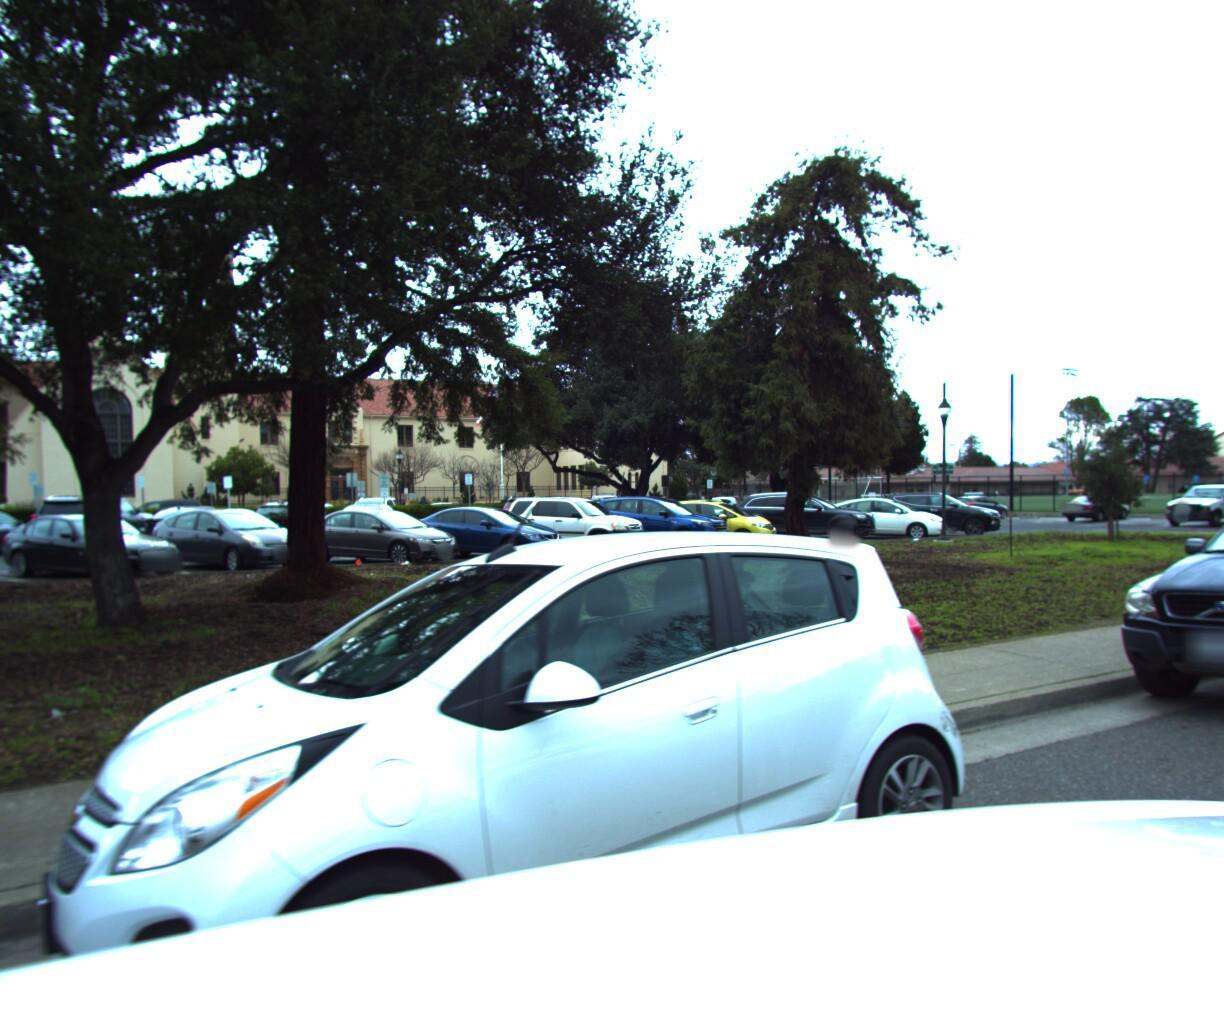car: (0, 507, 1003, 1024), (1079, 449, 1224, 773)
